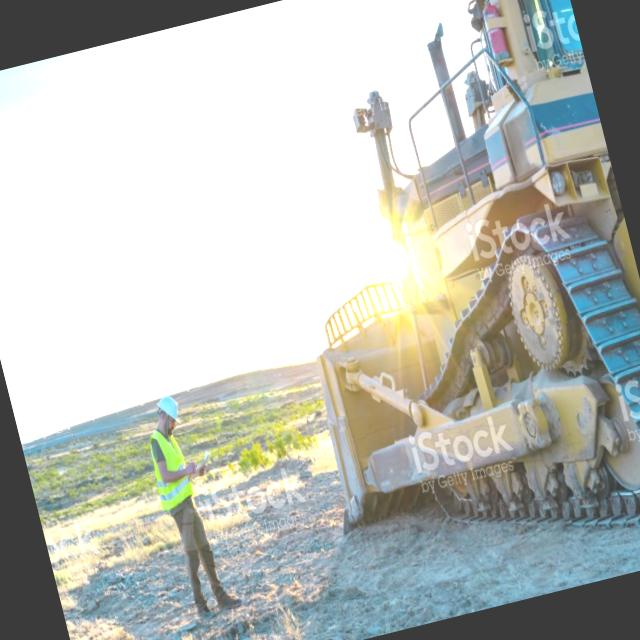helmet: (155, 388, 181, 422)
vest: (142, 418, 206, 516)
